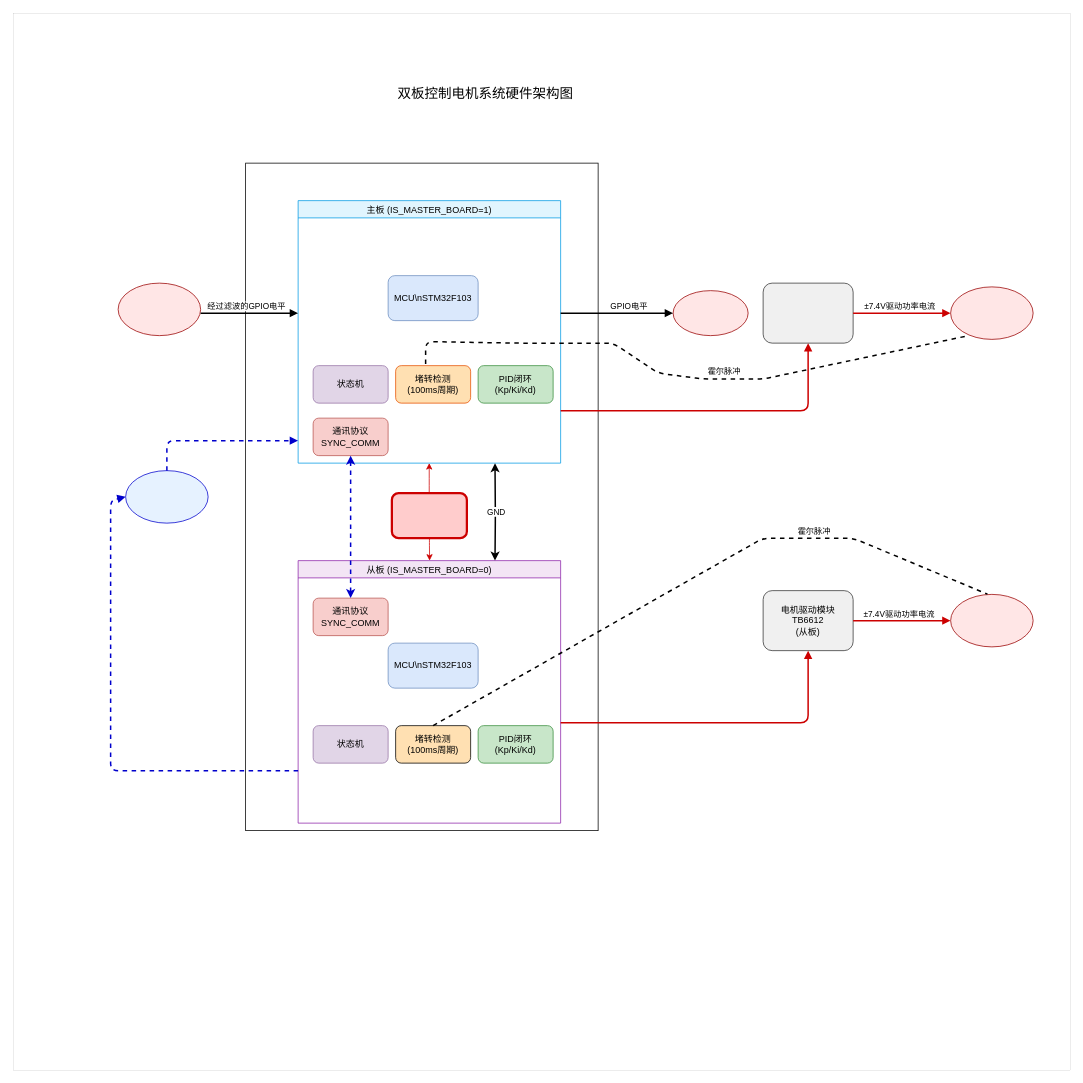
Some shapes in this 1083 by 1083 pixel diagram are drawn without their labels. Here are the shapes that lost their labels. From the top down, the centre of each, then its label:
At [159,309]: "按键输入KEY2 (主板)".
At [710,313]: "电机状态LED".
At [807,312]: "电机驱动模块 TB6612 (主板)".
At [991,312]: "霍尔电机（主板） 7.4V/1A".
At [166,496]: "USART2 通讯线 ( RX/TX)".
At [429,515]: "12V电源".
At [991,620]: "霍尔电机（从板） 7.4V/1A".
